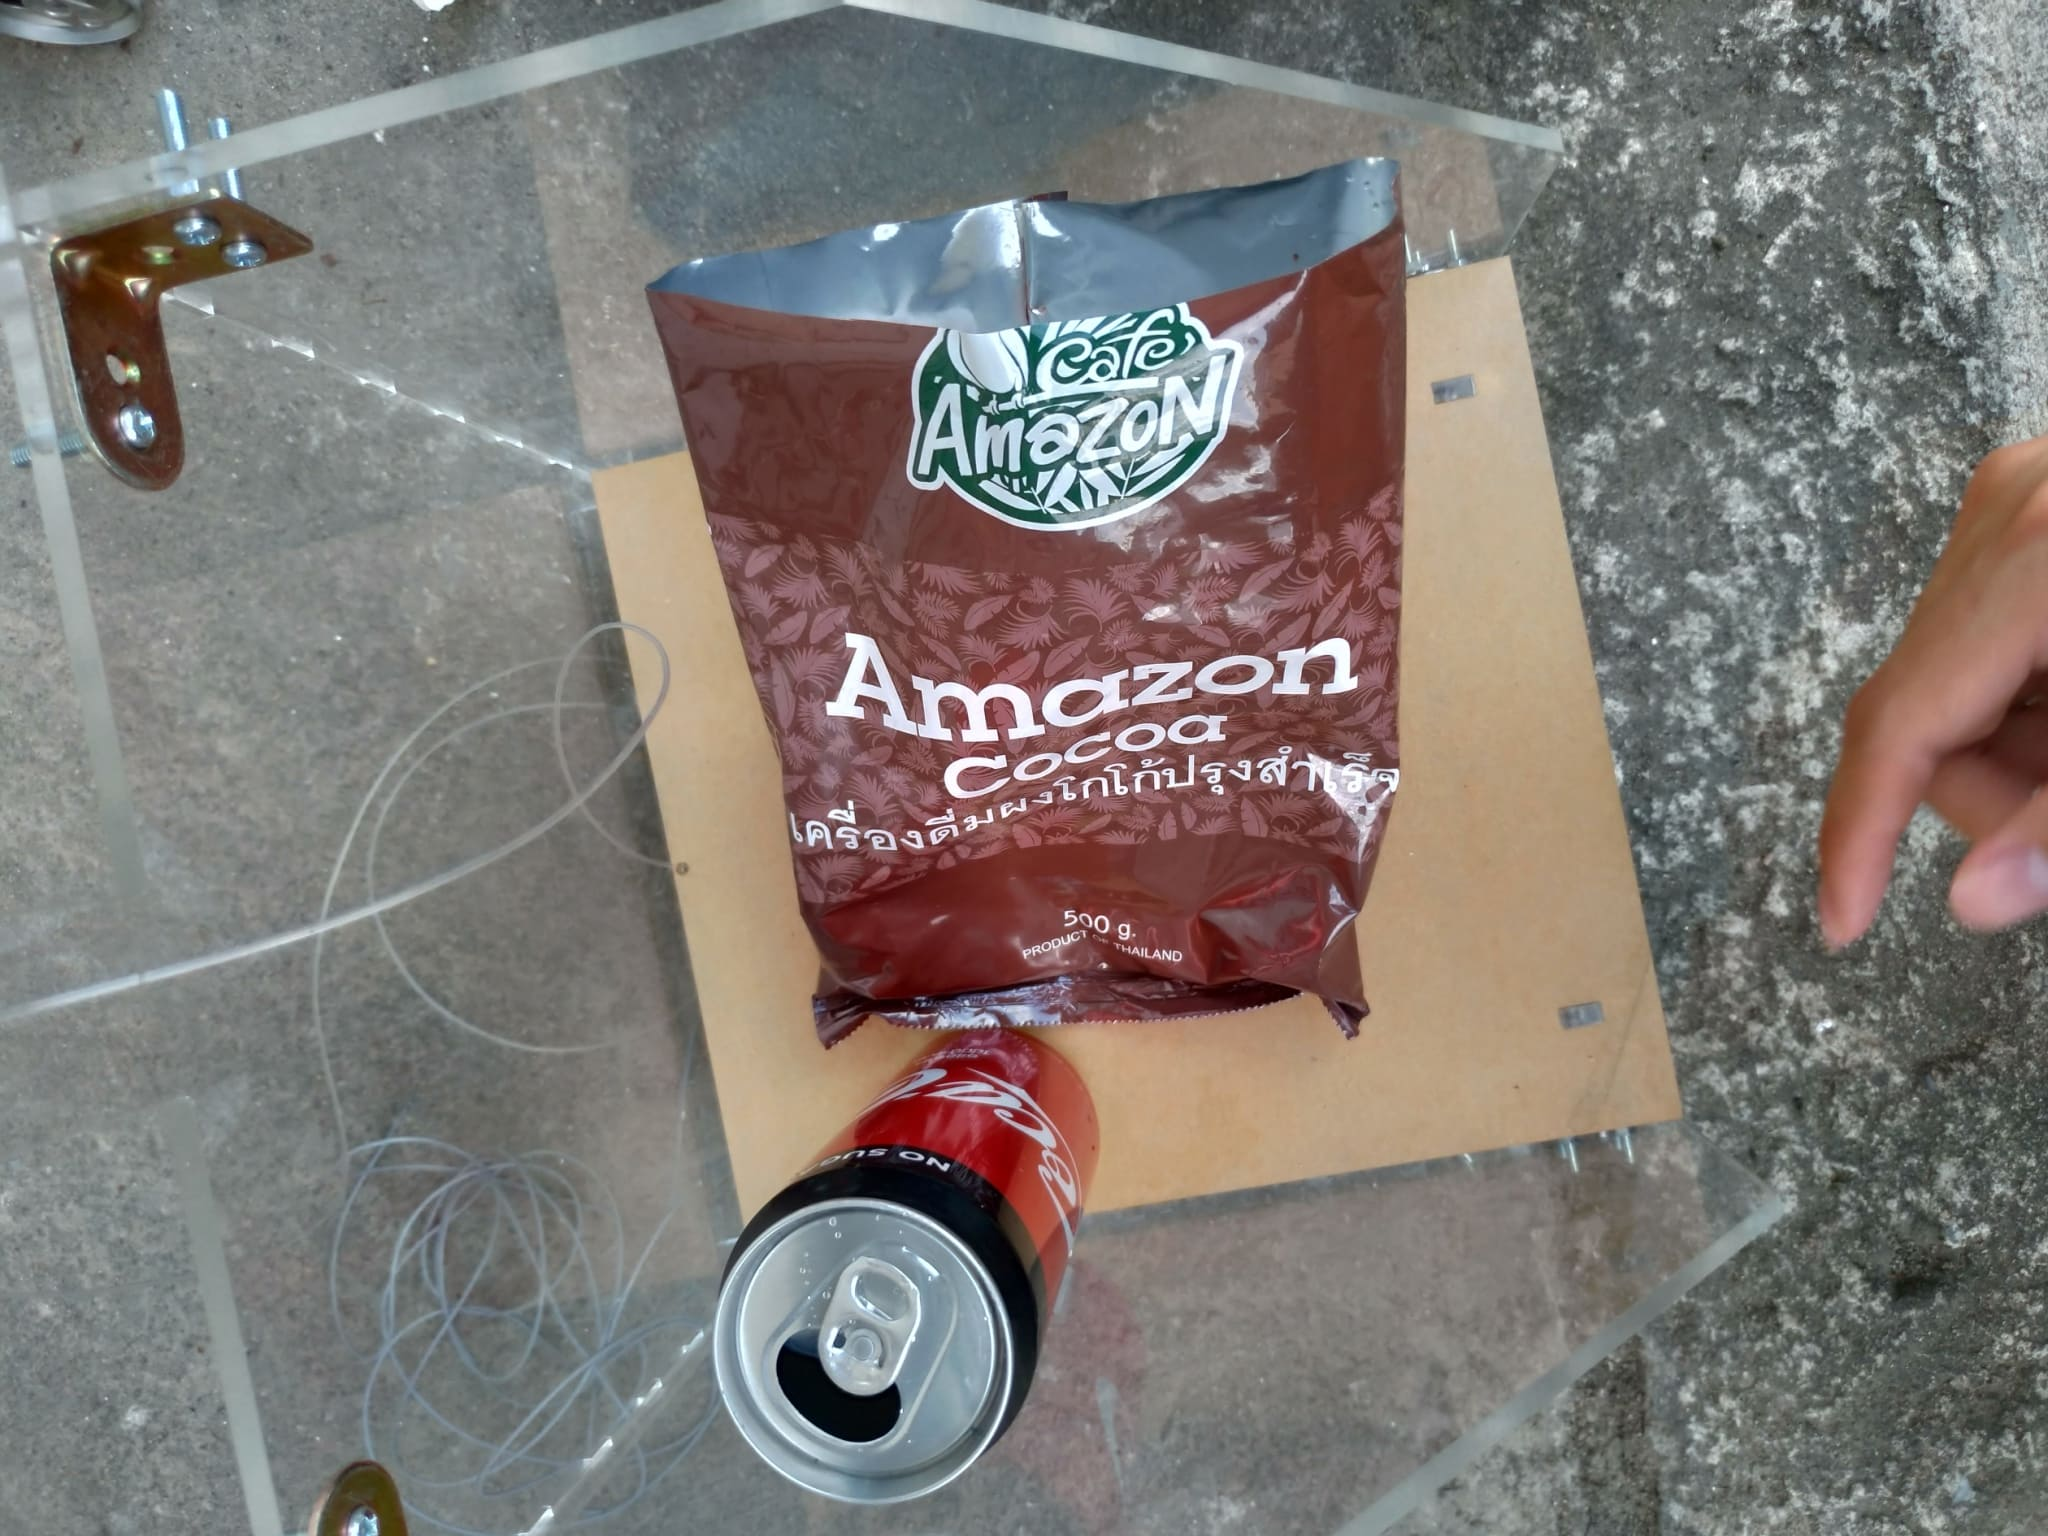AlCan: (711, 1034, 1100, 1504)
Others: (635, 157, 1405, 1037)
